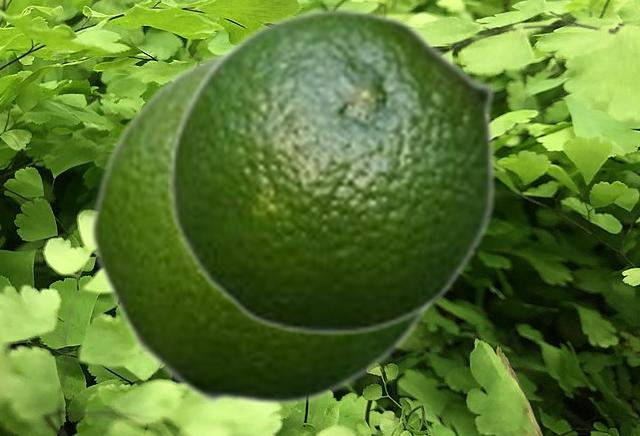calamansi: (87, 42, 438, 406), (168, 7, 497, 336)
